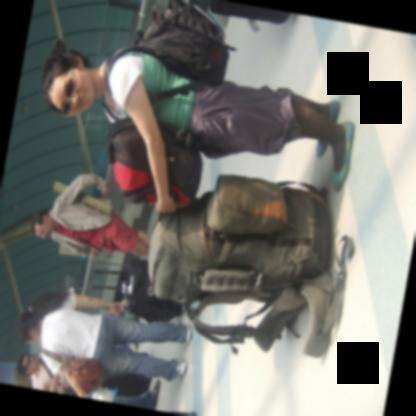backpack: (148, 172, 333, 354), (103, 0, 233, 106), (107, 114, 203, 205)
handbag: (42, 348, 109, 398), (91, 387, 112, 402)
suitcase: (123, 258, 183, 323), (209, 0, 292, 23)
